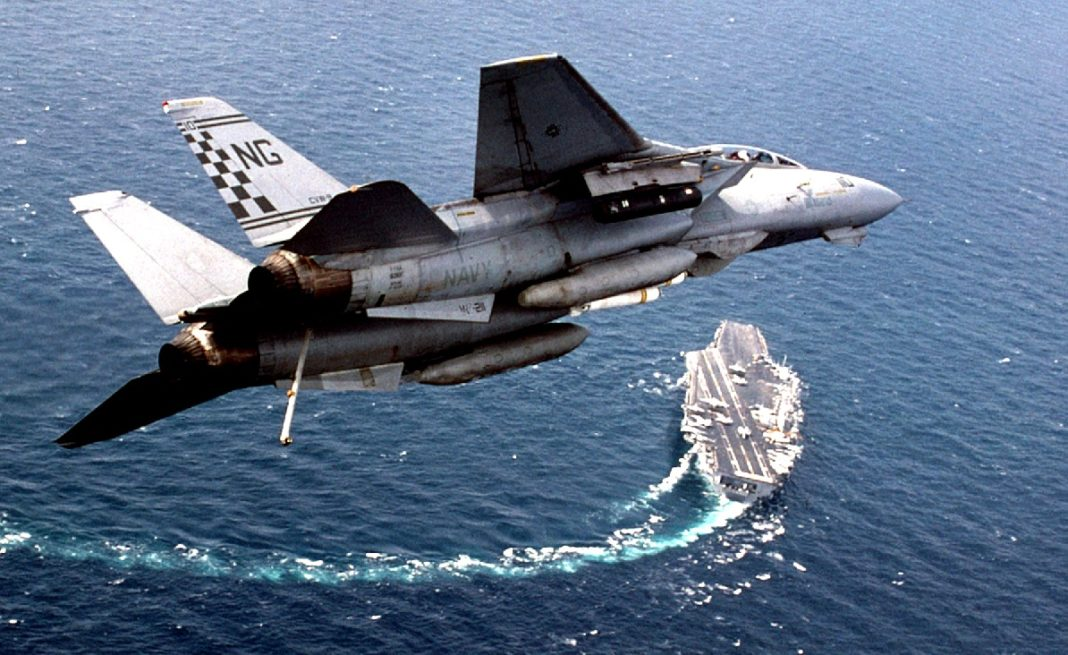Aeronef_militaire: (36, 43, 961, 471)
